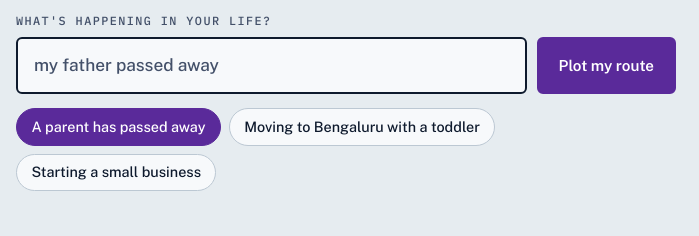
Test: IntakeForm › asks for text when submitted empty
Step 1. Click the button "Plot my route" → point(606, 66), box [537,37,676,94]
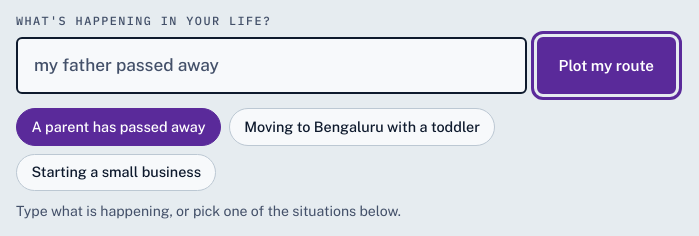
Check: the message reads "Type what is happening, or pick one of the situations below.", box [16,203,401,219]
